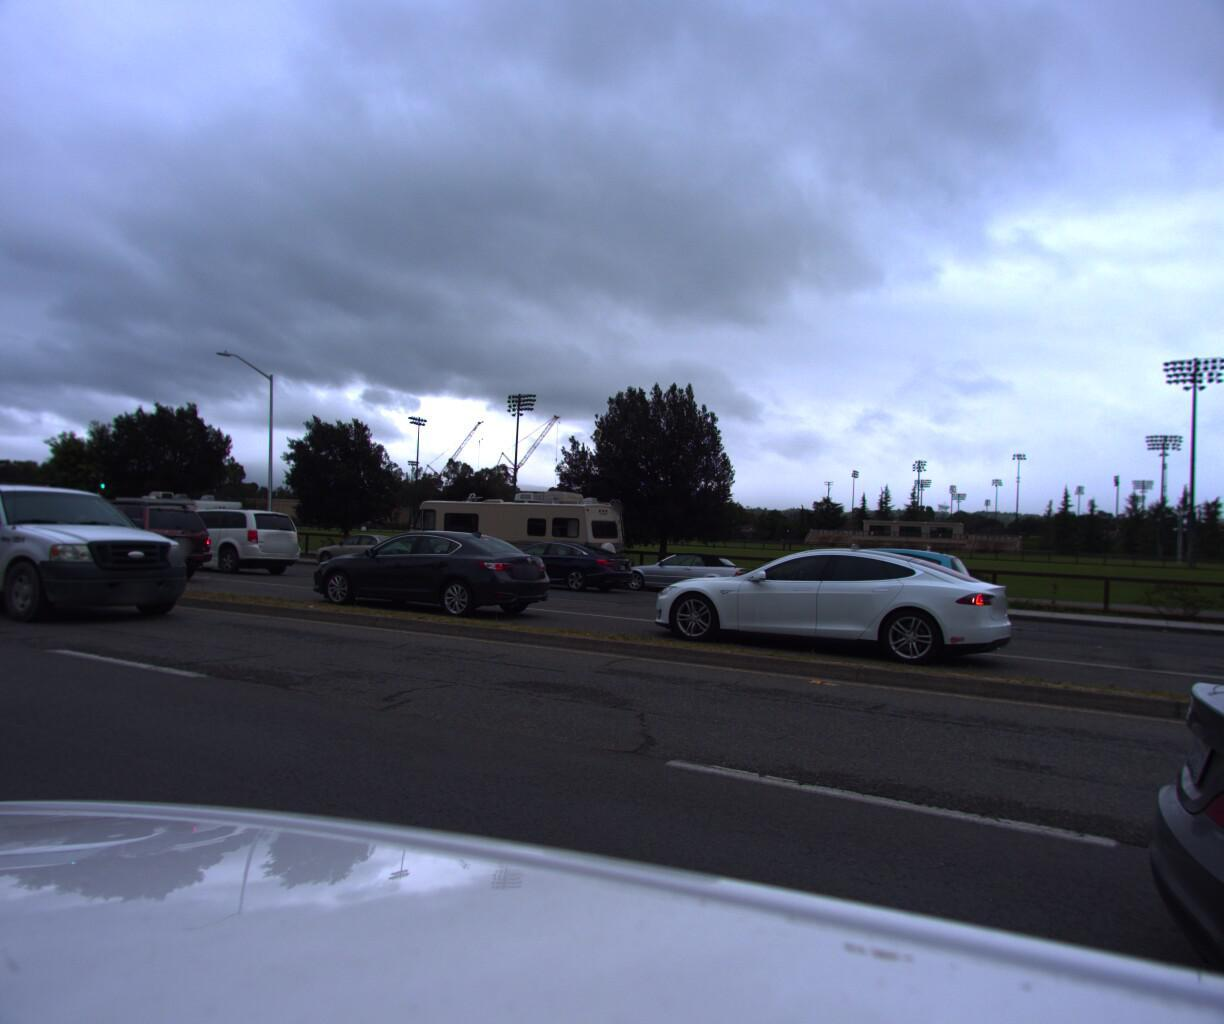car: (626, 539, 1025, 682), (729, 543, 1015, 654), (281, 522, 564, 628), (23, 497, 218, 587), (131, 503, 309, 586), (482, 537, 641, 598), (609, 549, 762, 606), (304, 529, 422, 574)
other_vehicle: (392, 487, 641, 589), (90, 489, 251, 560)
